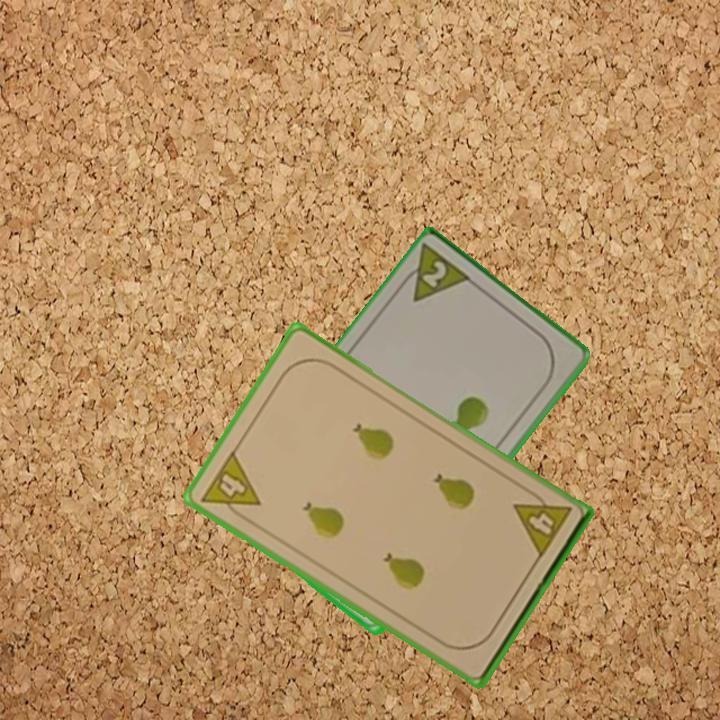2p: (393, 241, 477, 307)
4p: (197, 447, 264, 526), (509, 484, 574, 562)
